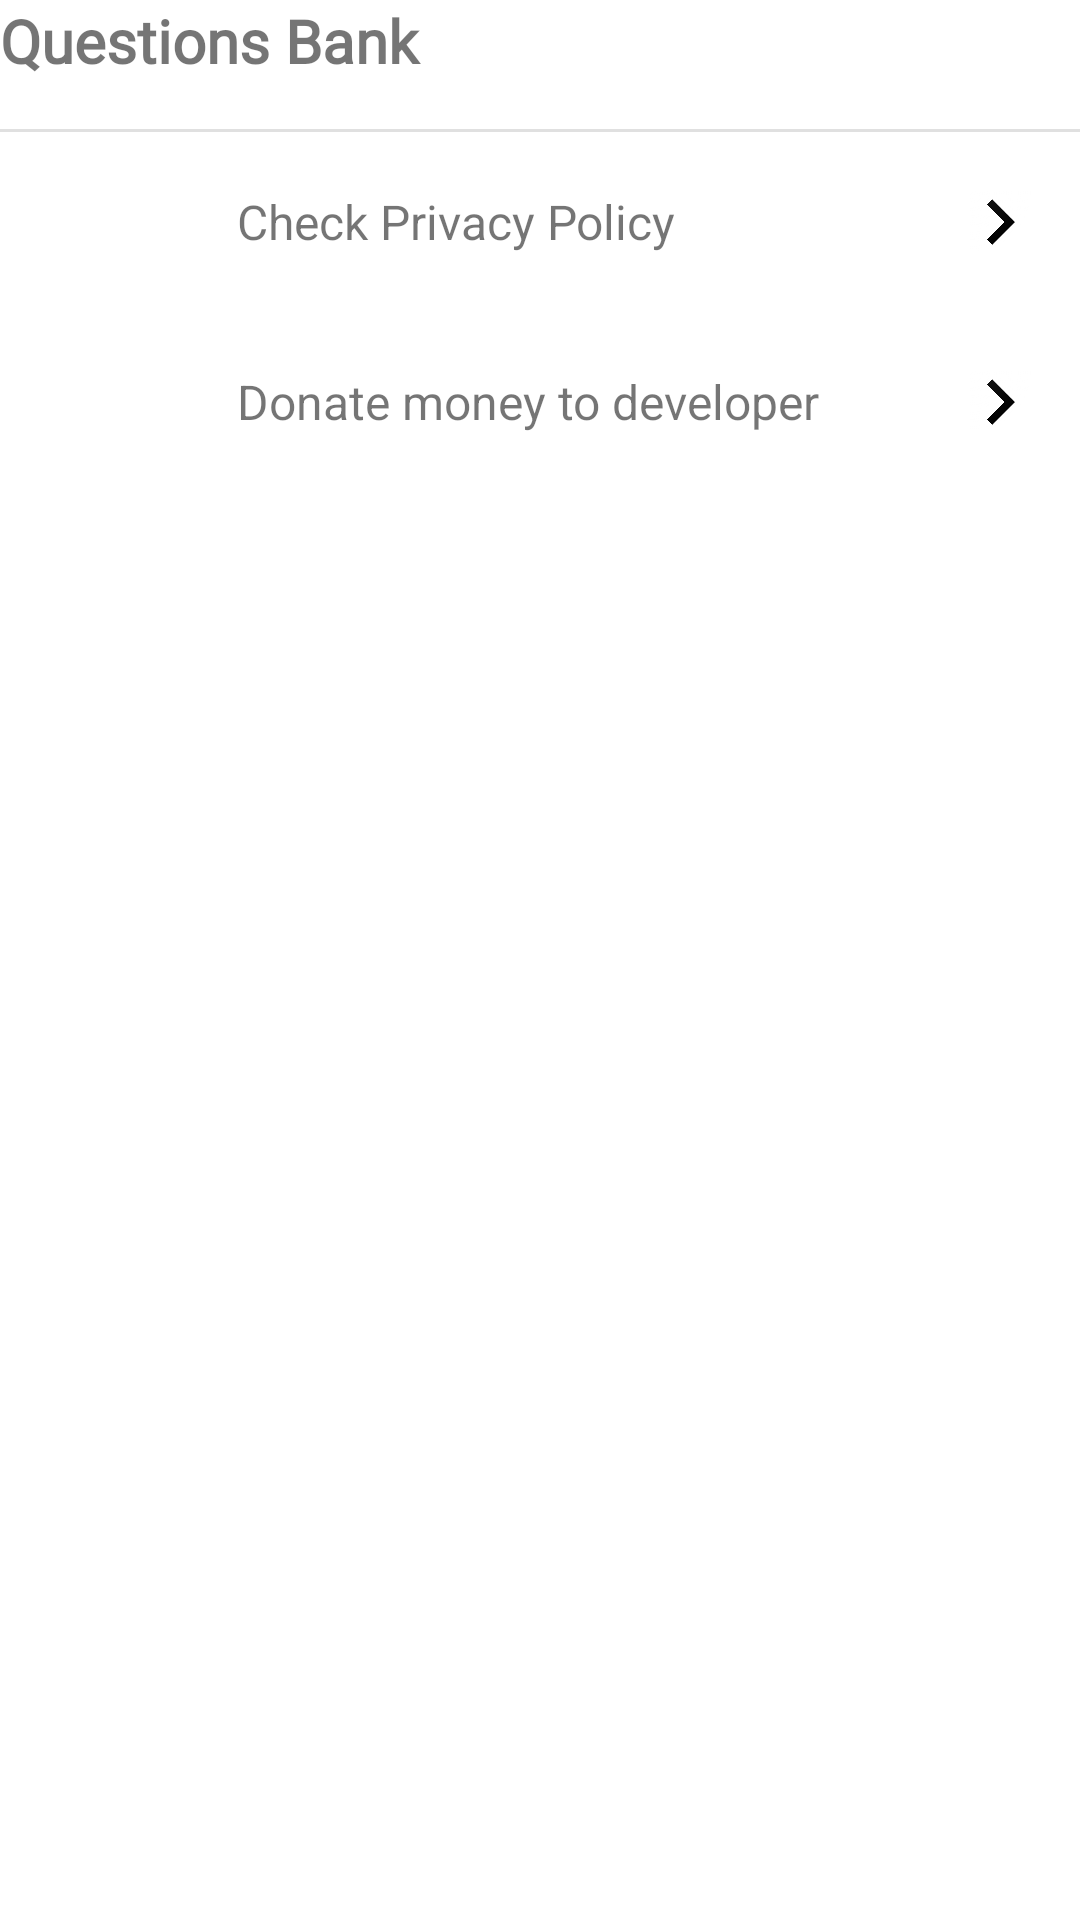

Where to tap for icons on this 1080x1920 app screen, as (x=x, y=y):
right: (x=1001, y=222), (x=1001, y=402)
